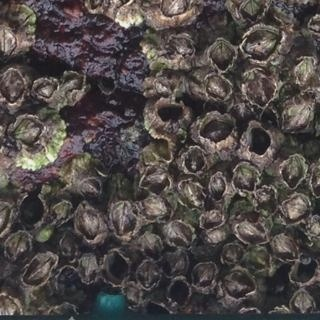Barnacle: (241, 28, 280, 64), (11, 113, 43, 149), (111, 200, 139, 239), (23, 254, 56, 285), (245, 70, 273, 106), (72, 204, 100, 240), (176, 179, 206, 209), (4, 232, 31, 265), (0, 71, 26, 105), (282, 101, 310, 130), (222, 270, 253, 296), (165, 222, 193, 250), (281, 153, 303, 186), (201, 120, 231, 143), (203, 75, 230, 100), (233, 164, 257, 192), (57, 234, 79, 264), (273, 237, 301, 260), (144, 167, 168, 193), (0, 26, 18, 60), (284, 197, 309, 221), (212, 42, 233, 70), (142, 231, 162, 260), (79, 176, 101, 202), (239, 223, 266, 244), (209, 172, 227, 202), (296, 59, 315, 87), (168, 35, 192, 57), (142, 197, 166, 219), (183, 149, 204, 174), (49, 197, 70, 222), (137, 262, 156, 289), (193, 265, 215, 288), (160, 0, 188, 18), (79, 255, 97, 283), (165, 252, 187, 274), (293, 292, 314, 315), (200, 210, 224, 230), (249, 247, 271, 267), (0, 297, 20, 319), (255, 190, 275, 211), (155, 80, 176, 99), (238, 0, 259, 18), (222, 245, 241, 263), (62, 74, 82, 91), (35, 82, 54, 98), (203, 231, 224, 245), (308, 214, 319, 240), (309, 16, 319, 33), (89, 0, 104, 8)
